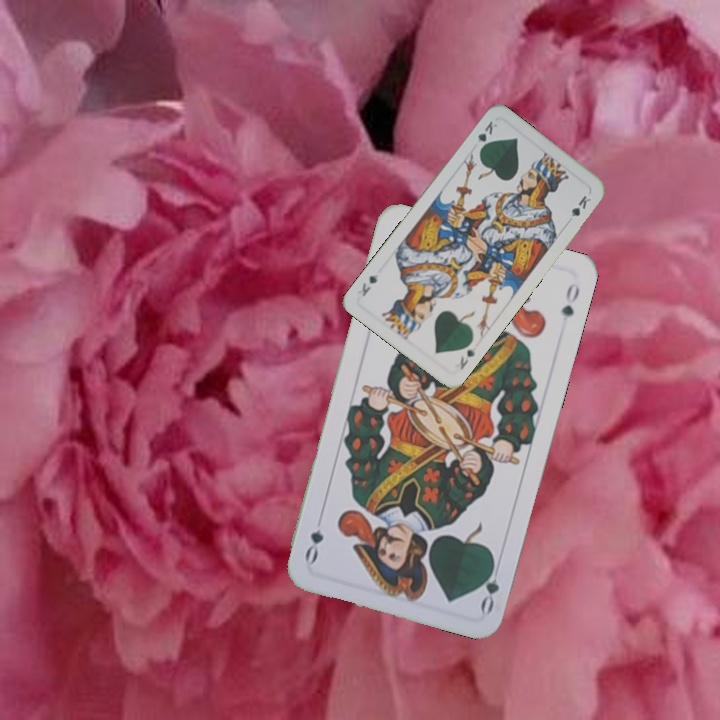GK: (473, 116, 500, 154), (456, 345, 478, 373)
GO: (475, 555, 504, 616)
